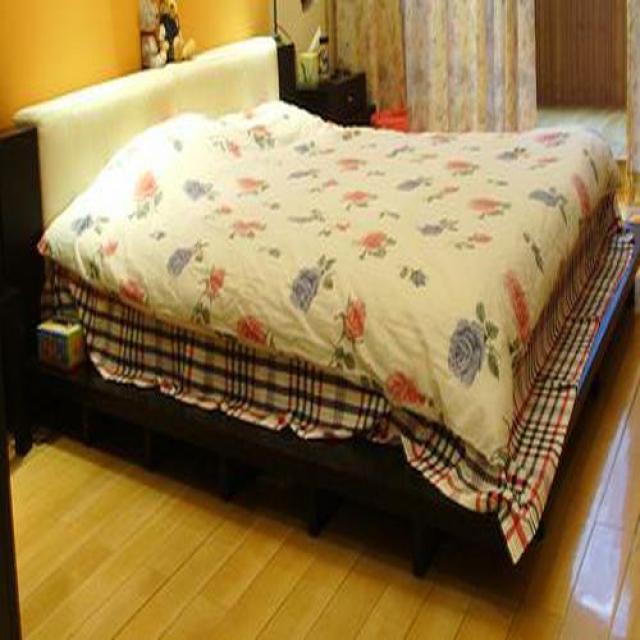bed: (0, 37, 640, 577)
